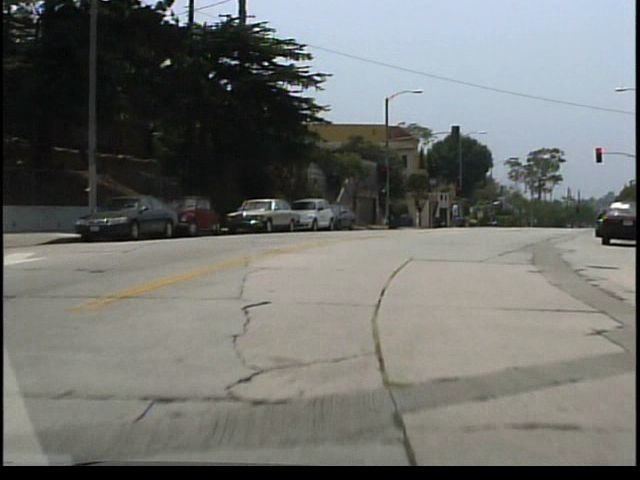person: (455, 203, 464, 230)
